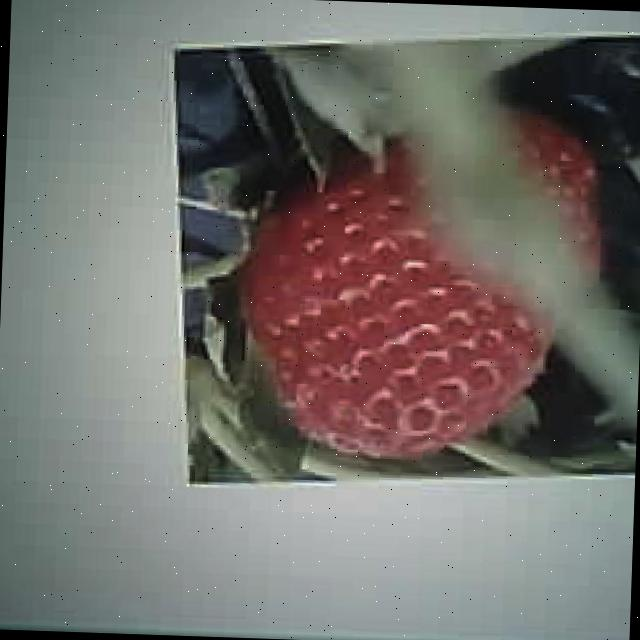strawberry: (238, 113, 604, 463)
